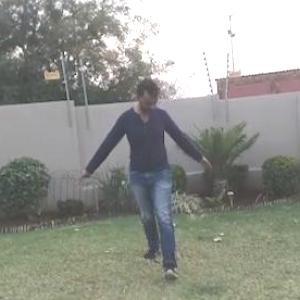land: (78, 74, 214, 277)
